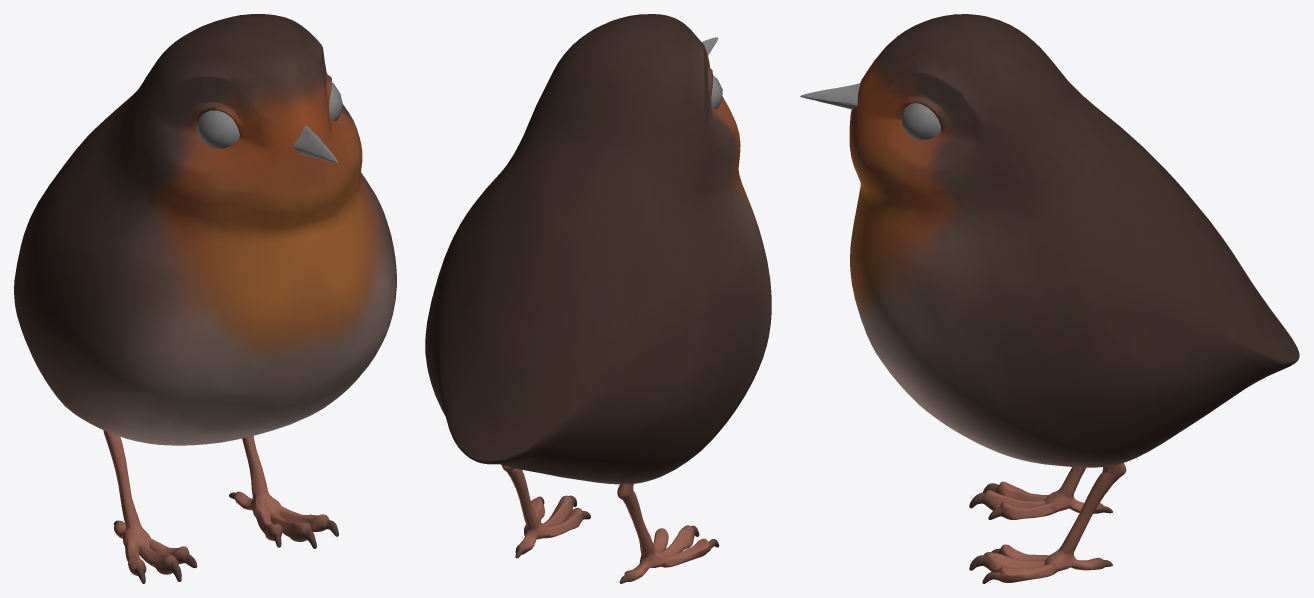
The model's file is Birb_PLACEHOLDER_001.fbx.
3 renders of one model, left to right at view 1: azimuth 30°, elevation 25°; view 2: azimuth 150°, elevation 25°; view 3: azimuth 270°, elevation 25°, orthographic. The views are drawn at different scales.
Visible parts, largest first — view 1: Body, Legs, Eyes, Beak_Top; view 2: Body, Legs; view 3: Body, Legs, Eyes, Beak_Top.
Boxes of the visible parts, x1,y1,x2,y2 form: Body: (14, 14, 396, 445); Legs: (103, 430, 338, 583); Eyes: (197, 82, 342, 148); Beak_Top: (293, 126, 337, 163); Body: (425, 14, 771, 484); Legs: (501, 465, 719, 583); Body: (849, 14, 1299, 467); Legs: (969, 463, 1126, 583); Eyes: (901, 103, 940, 140); Beak_Top: (800, 83, 860, 106).
Bounding box in the file's own units: 1.25 × 2.09 × 1.83.
